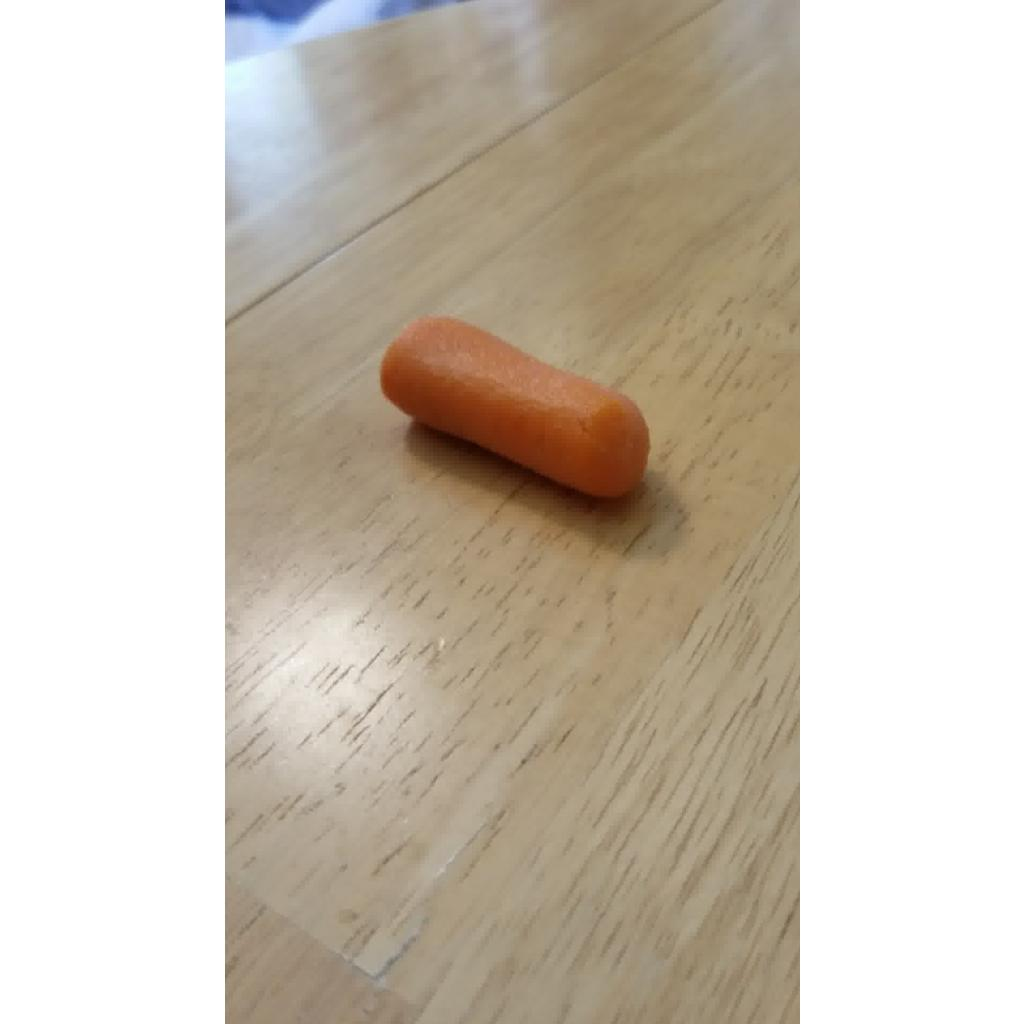carrot: (380, 318, 650, 496)
